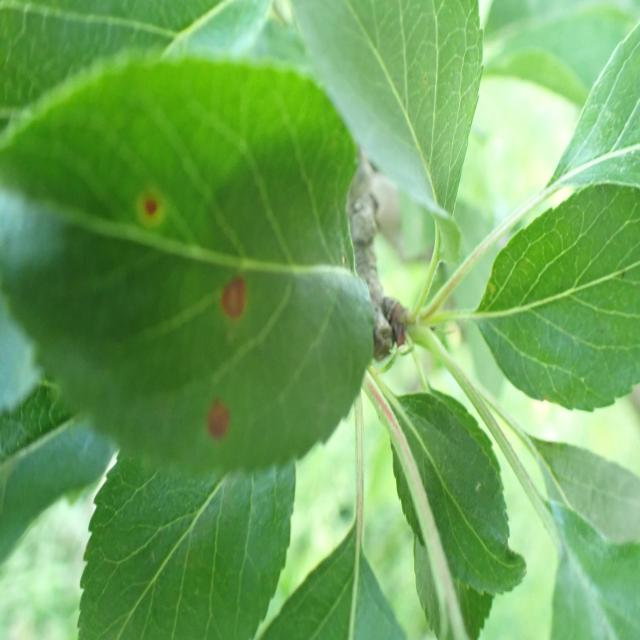Black Rot: (172, 394, 252, 439), (211, 252, 248, 331), (124, 188, 170, 245)
